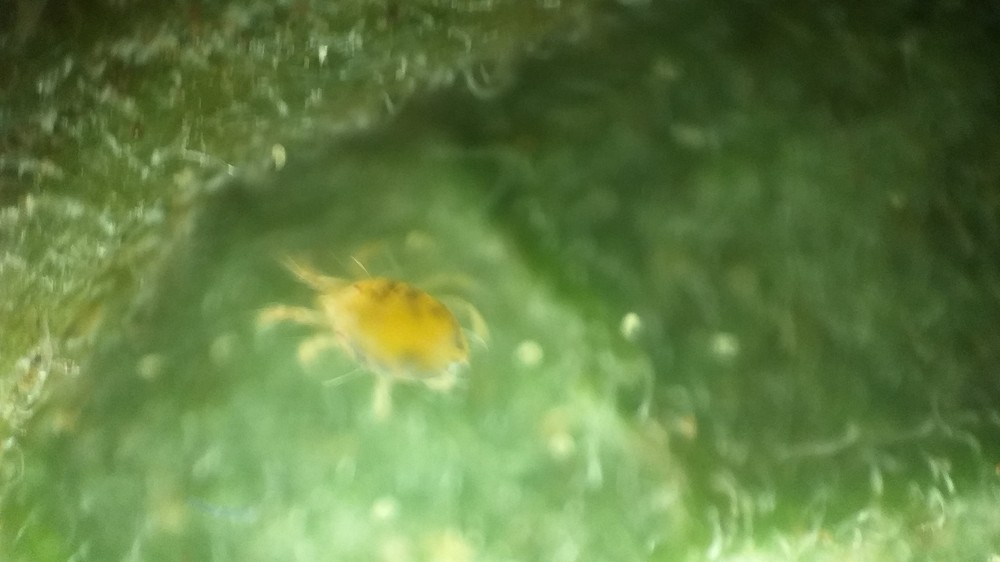Aracnido Rojo: (246, 221, 513, 413)
